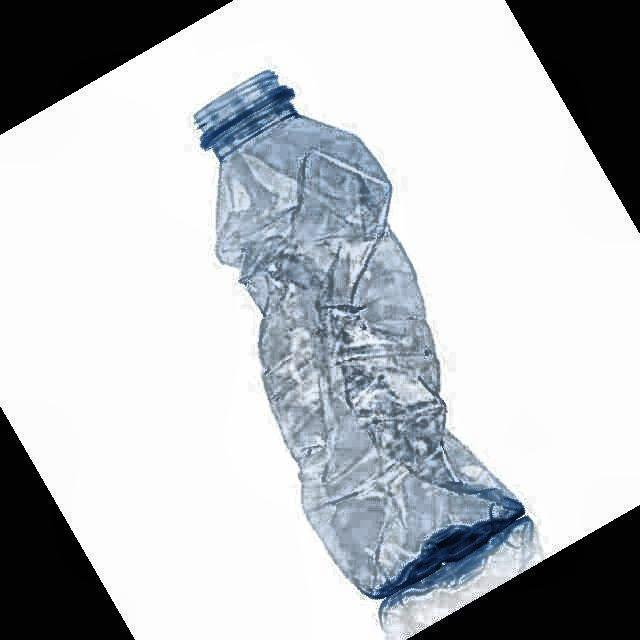plastic: (195, 71, 528, 609)
